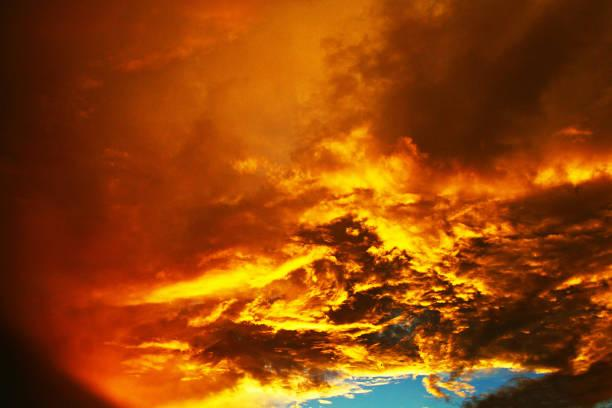Fire: (117, 124, 596, 376)
